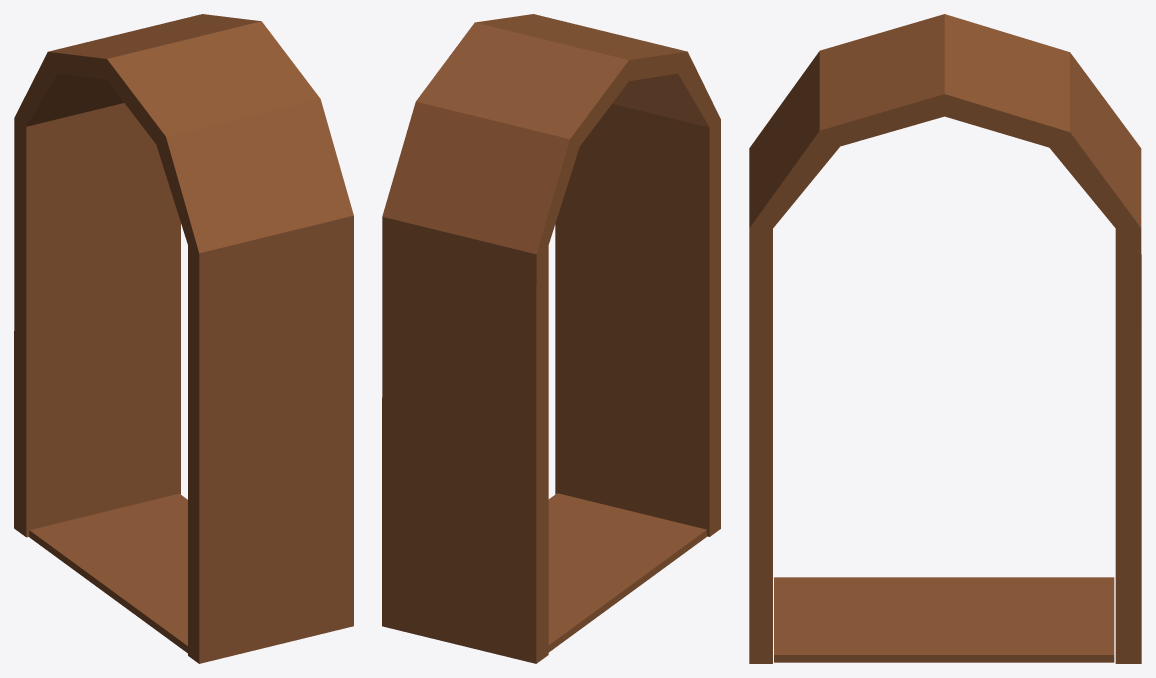
Rendered from Doorpost.fbx.
3 renders of one model, left to right at view 1: azimuth 30°, elevation 25°; view 2: azimuth 150°, elevation 25°; view 3: azimuth 270°, elevation 25°, orthographic. The views are drawn at different scales.
Parts seen in each view (by area): view 1: Doorpost; view 2: Doorpost; view 3: Doorpost.
Part boxes in pixels (x1=…): Doorpost: x1=14, y1=14, x2=353, y2=663; Doorpost: x1=382, y1=14, x2=720, y2=663; Doorpost: x1=749, y1=14, x2=1141, y2=663.
Bounding box in the file's own units: 1.09 × 3.63 × 2.27.
